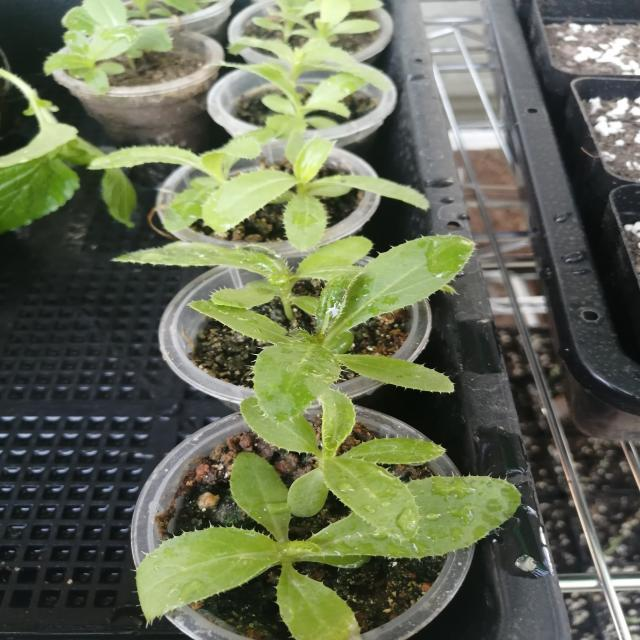field_thistle: (126, 417, 502, 621), (123, 235, 474, 402), (80, 128, 428, 238)
